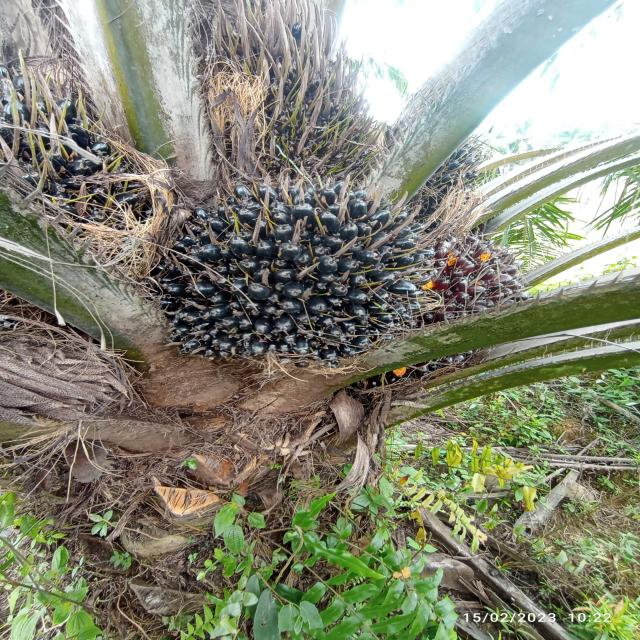fraksi 00: (139, 154, 422, 383), (409, 200, 519, 340)
